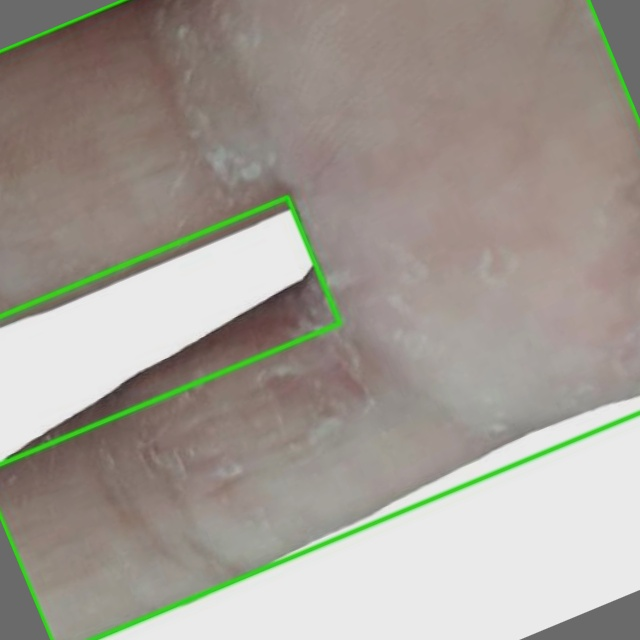Scabies: (0, 0, 639, 639), (0, 197, 340, 464)
